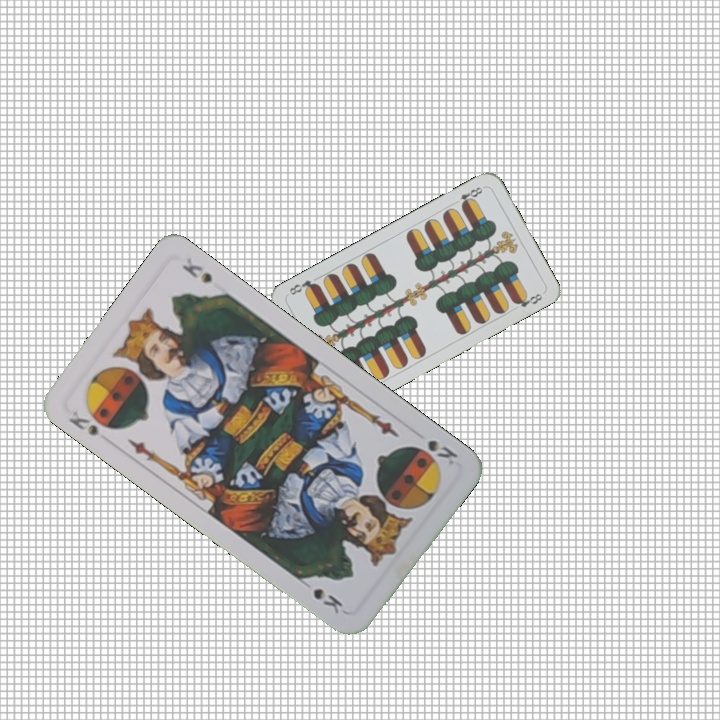E8: (450, 182, 487, 210)
SK: (423, 435, 461, 468), (64, 407, 102, 439)
